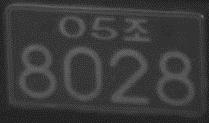0: (62, 45, 102, 103), (57, 14, 85, 38)
2: (109, 47, 149, 105)
5: (90, 16, 118, 41)
8: (154, 49, 195, 107), (18, 43, 57, 100)
조: (122, 17, 151, 42)
